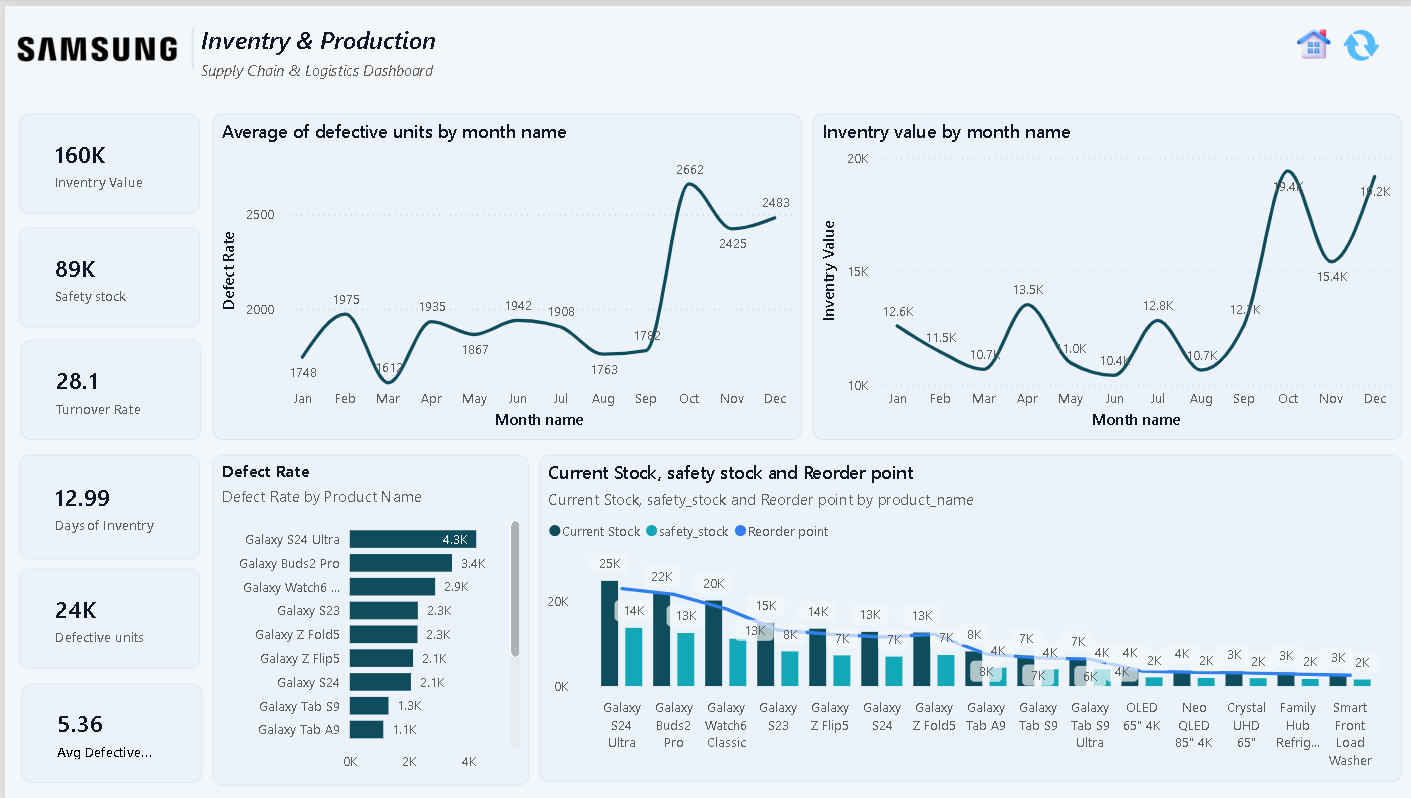

What the dashboard file says about the page in this screenshot:
{"tool":"powerbi","page":{"name":"Inventry & Production","canvas":[1280,720],"ordinal":2},"visuals":[{"type":"shape","title":"Inventry & Production","box":[177.9,15.1,220.9,57],"z":0},{"type":"shape","box":[161.6,19.8,18.6,38.4],"z":1000},{"type":"image","box":[0,15.1,160.5,47.7],"z":2000},{"type":"cardVisual","fields":{"Data":["MeasuresTable.safety_stock"]},"box":[12.2,201.2,165,91.5],"z":3000},{"type":"cardVisual","fields":{"Data":["MeasuresTable.Turnover Rate"]},"box":[13.7,303.9,165,91],"z":4000},{"type":"cardVisual","fields":{"Data":["MeasuresTable.days_of_inventry"]},"box":[12.8,408.1,165,95.3],"z":5000},{"type":"cardVisual","fields":{"Data":["Sum(fact_production.defective_units)"]},"box":[12,511.5,165,91],"z":6000},{"type":"cardVisual","fields":{"Data":["MeasuresTable.Inventry_Value"]},"box":[12.2,97.6,165,91.5],"z":7000},{"type":"cardVisual","fields":{"Data":["Avg(fact_production.defective_units)"]},"box":[14.3,616.2,165,90.8],"z":8000},{"type":"clusteredBarChart","title":"Defect Rate","fields":{"Y":["MeasuresTable.defect_Rate"],"Category":["dim_product.product_name"]},"box":[188.4,408.1,288.4,301.2],"z":9000},{"type":"lineClusteredColumnComboChart","title":"Current Stock, safety stock and Reorder point","fields":{"Category":["dim_product.product_name"],"Y":["MeasuresTable.Inventry_Value","MeasuresTable.safety_stock"],"Y2":["MeasuresTable.Reorder point"]},"box":[484.9,408.1,784.9,297.7],"z":10000},{"type":"lineChart","title":" Average of defective units by month name","fields":{"Category":["dim_date.Short_Date"],"Y":["MeasuresTable.defect_Rate"]},"box":[188.4,97.7,536,296.5],"z":11000},{"type":"lineChart","title":"Inventry value by month name","fields":{"Category":["dim_date.Short_Date"],"Y":["MeasuresTable.Inventry_Value"]},"box":[733.7,97.7,536,296.5],"z":12000},{"type":"image","box":[1168.6,19.8,43,30.2],"z":13000},{"type":"image","box":[1211.6,19.8,43,32.6],"z":14000}]}

Visuals, with their boxes in screenshot pixels (x1, y1, x2, y2), scaled from the page's 1280x720 canvas onto the 1411x798 screenshot:
"Inventry & Production" shape: box(196, 17, 440, 80)
shape: box(178, 22, 199, 65)
image: box(0, 17, 177, 70)
cardVisual - MeasuresTable.safety_stock: box(13, 223, 195, 324)
cardVisual - MeasuresTable.Turnover Rate: box(15, 337, 197, 438)
cardVisual - MeasuresTable.days_of_inventry: box(14, 452, 196, 558)
cardVisual - Sum(fact_production.defective_units): box(13, 567, 195, 668)
cardVisual - MeasuresTable.Inventry_Value: box(13, 108, 195, 210)
cardVisual - Avg(fact_production.defective_units): box(16, 683, 198, 784)
"Defect Rate" clusteredBarChart: box(208, 452, 526, 786)
"Current Stock, safety stock and Reorder point" lineClusteredColumnComboChart: box(535, 452, 1400, 782)
" Average of defective units by month name" lineChart: box(208, 108, 799, 437)
"Inventry value by month name" lineChart: box(809, 108, 1400, 437)
image: box(1288, 22, 1336, 55)
image: box(1336, 22, 1383, 58)
